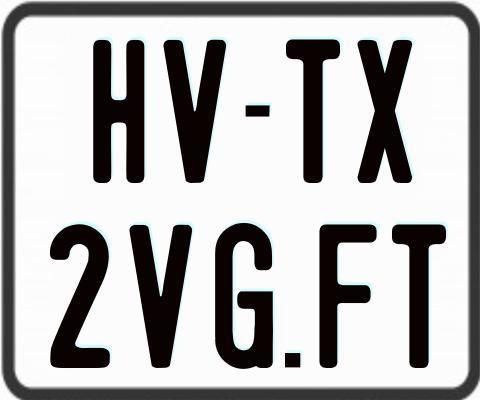2: (47, 223, 111, 369)
F: (318, 224, 378, 372)
G: (215, 220, 279, 366)
H: (91, 39, 147, 188)
T: (285, 39, 345, 183), (390, 224, 444, 369)
V: (128, 224, 196, 370), (163, 40, 230, 183)
X: (355, 37, 413, 184)
